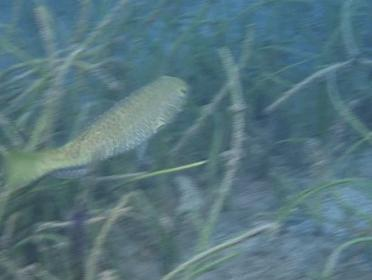Scaridae -Parrotfishes-: (0, 72, 193, 200)
